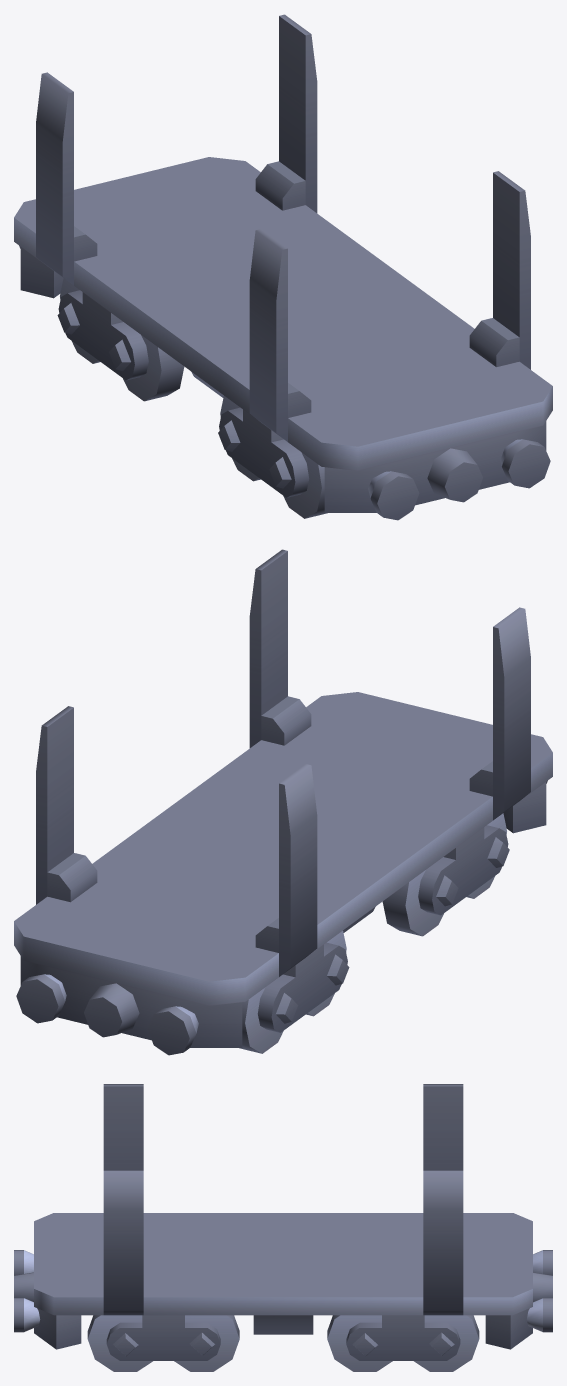
The model's file is kenney-train-train-carriage-flatbed.glb.
The picture shows the model from 3 angles, top to bottom: view 1: azimuth 30°, elevation 25°; view 2: azimuth 150°, elevation 25°; view 3: azimuth 270°, elevation 25°; orthographic projection. The views are drawn at different scales.
Visible parts, largest first — view 1: train-carriage-flatbed; view 2: train-carriage-flatbed; view 3: train-carriage-flatbed.
Boxes of the visible parts, <box> form: train-carriage-flatbed: <box>14,14,552,520</box>; train-carriage-flatbed: <box>14,549,552,1055</box>; train-carriage-flatbed: <box>14,1084,552,1371</box>.
Size of the model in its own units: 1.1 by 1.16 by 2.7.
1 material, 1 textured.
